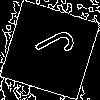J: (25, 25, 77, 69)
